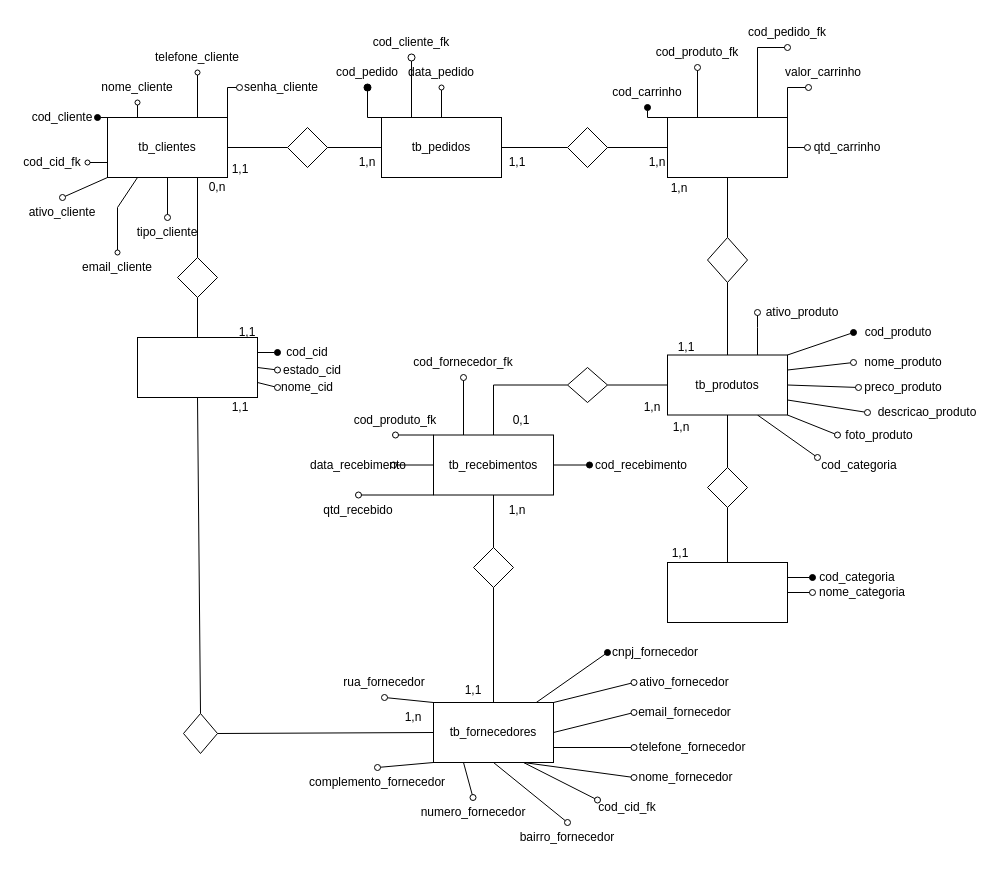
The diagram is 1004 pixels wide and 869 high, and some of its shapes have lost their labels. Each missing label, with the box of its shape:
tb_carrinho: (666, 116, 788, 178)
tb_categorias: (666, 562, 788, 622)
tb_cidades: (136, 336, 258, 398)
